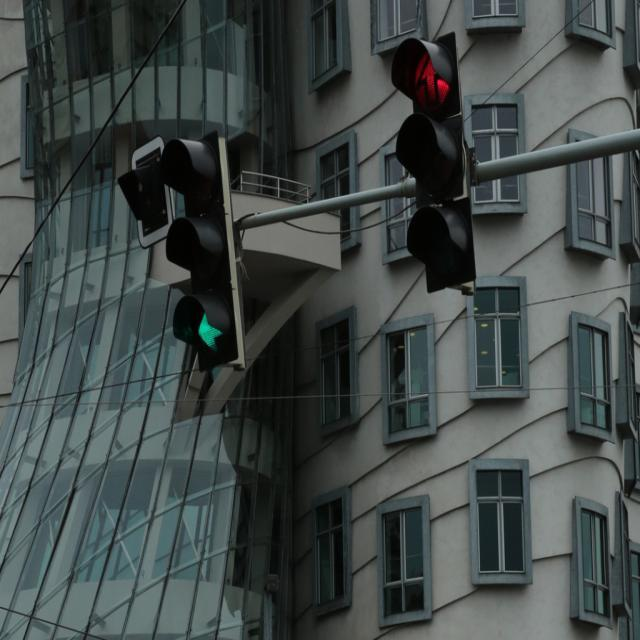traffic light: (392, 36, 478, 303), (158, 128, 245, 374)
